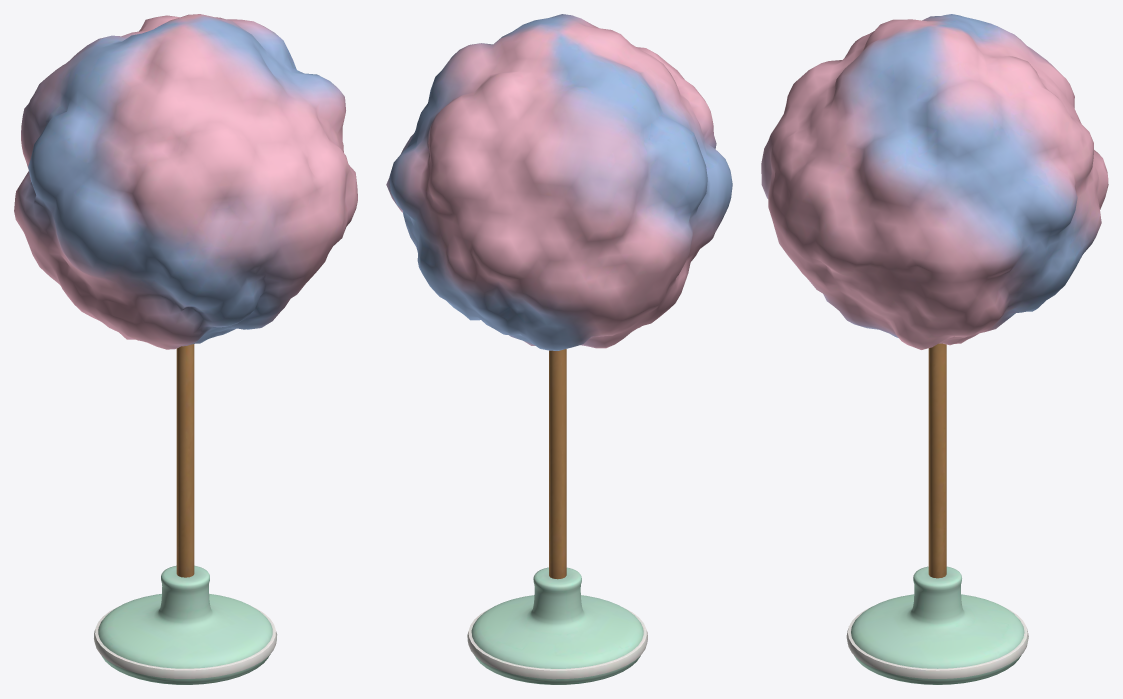
File: cotton-candy.glb
3 renders of one model, left to right at view 1: azimuth 30°, elevation 25°; view 2: azimuth 150°, elevation 25°; view 3: azimuth 270°, elevation 25°, orthographic.
Parts seen in each view (by area): view 1: body; view 2: body; view 3: body.
Part boxes in pixels (x1,y1,x2,y2): body: (14, 14, 357, 684); body: (386, 14, 732, 684); body: (761, 14, 1108, 684).
Size of the model in its own units: 0.1615 by 0.3262 by 0.1644.
Materials: 1 (1 with a texture image).
